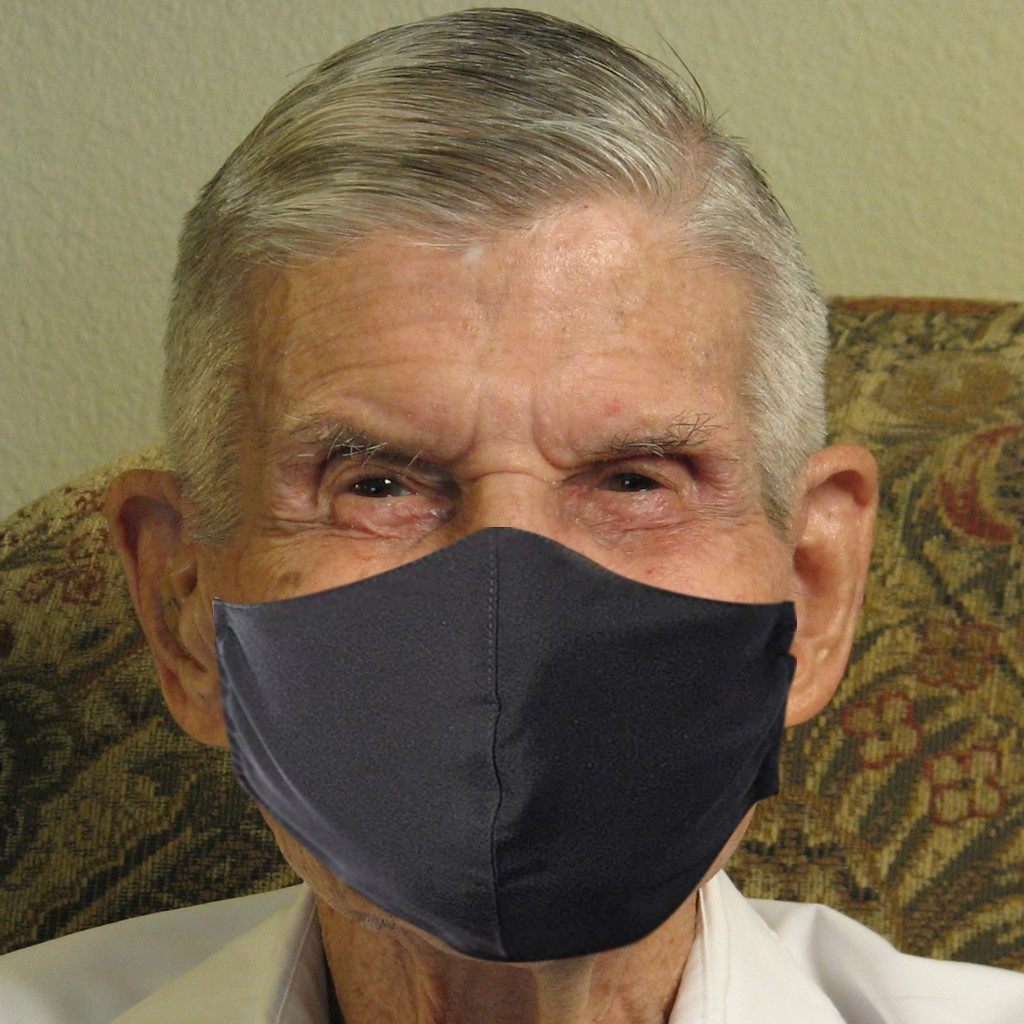con_mascara: (196, 171, 817, 957)
